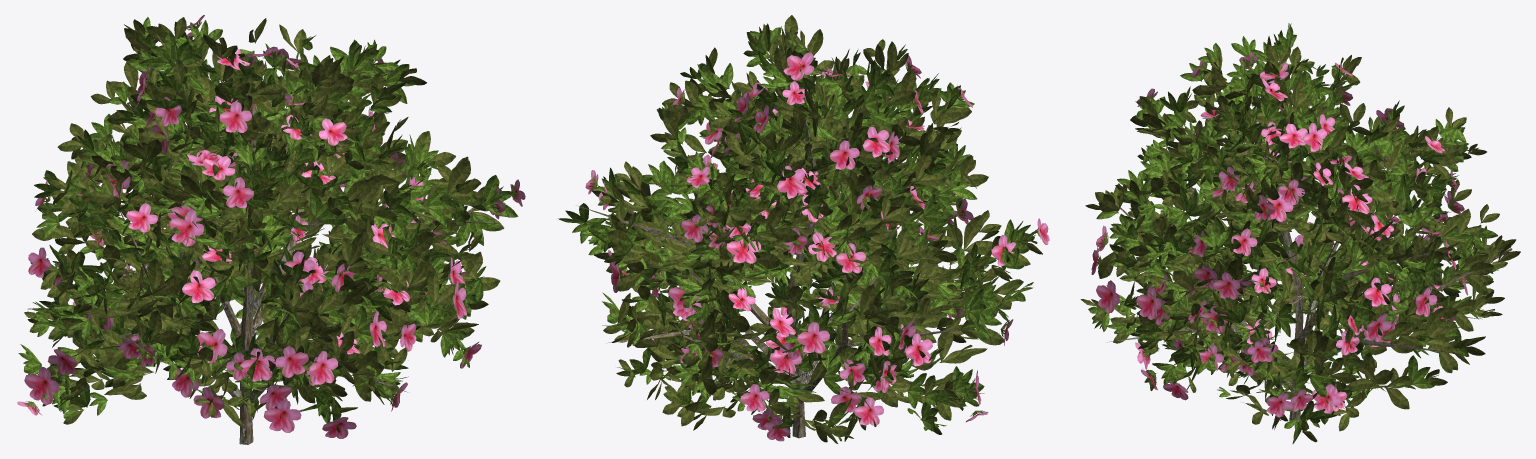
The model's file is Azalea.fbx.
The picture shows the model from 3 angles, left to right: view 1: azimuth 30°, elevation 25°; view 2: azimuth 150°, elevation 25°; view 3: azimuth 270°, elevation 25°; orthographic projection. The views are drawn at different scales.
Parts seen in each view (by area): view 1: Azalea_Hero_Flowers_2; view 2: Azalea_Hero_Flowers_2; view 3: Azalea_Hero_Flowers_2.
Boxes of the visible parts, x1=… form: Azalea_Hero_Flowers_2: x1=17, y1=15, x2=525, y2=444; Azalea_Hero_Flowers_2: x1=558, y1=15, x2=1049, y2=443; Azalea_Hero_Flowers_2: x1=1080, y1=23, x2=1520, y2=443.
Size of the model in its own units: 0.4861 by 0.4087 by 0.4415.
Materials: 5 (5 with a texture image).
